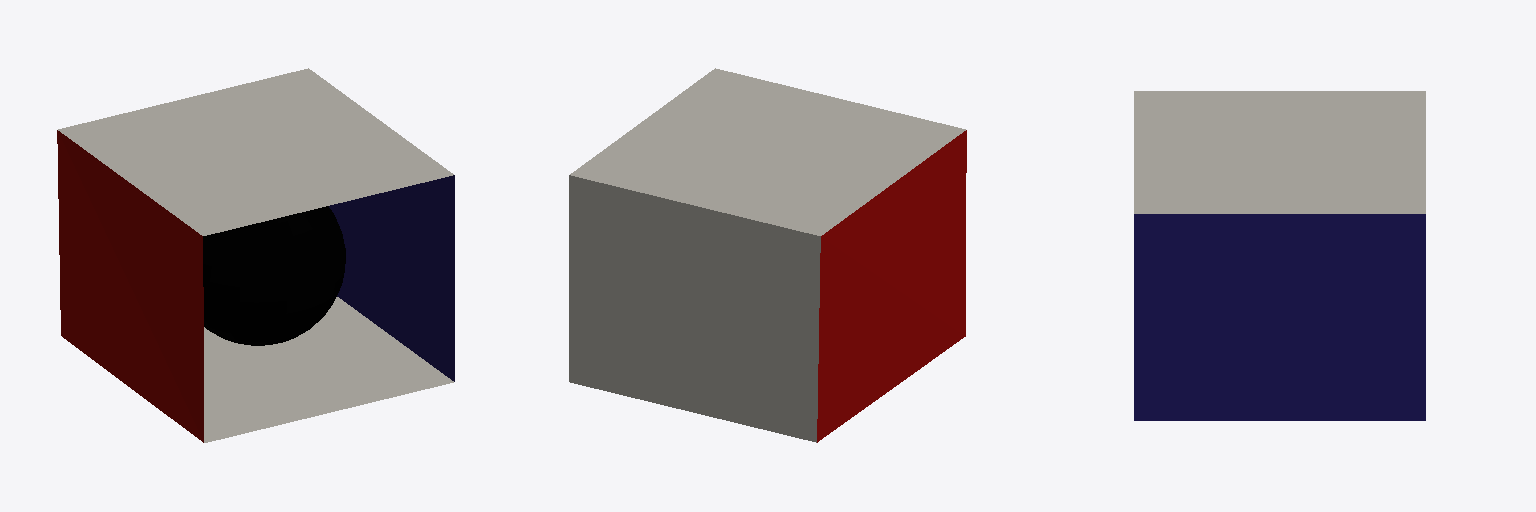
The model's file is CornellBox-WaterSphere.obj.
3 renders of one model, left to right at view 1: azimuth 30°, elevation 25°; view 2: azimuth 150°, elevation 25°; view 3: azimuth 270°, elevation 25°, orthographic.
Visible parts, largest first — view 1: ceiling, leftWall, floor, rightWall, rightSphere; view 2: backWall, ceiling, leftWall; view 3: rightWall, ceiling.
Boxes of the visible parts, x1,y1,x2,y2 form: ceiling: [58, 68, 453, 235]; leftWall: [57, 130, 203, 442]; floor: [204, 297, 453, 442]; rightWall: [329, 175, 454, 381]; rightSphere: [203, 206, 345, 345]; backWall: [569, 175, 820, 442]; ceiling: [570, 68, 965, 235]; leftWall: [817, 130, 966, 442]; rightWall: [1134, 214, 1425, 420]; ceiling: [1134, 91, 1425, 213].
Size of the model in its own units: 2.02 by 1.59 by 2.03.